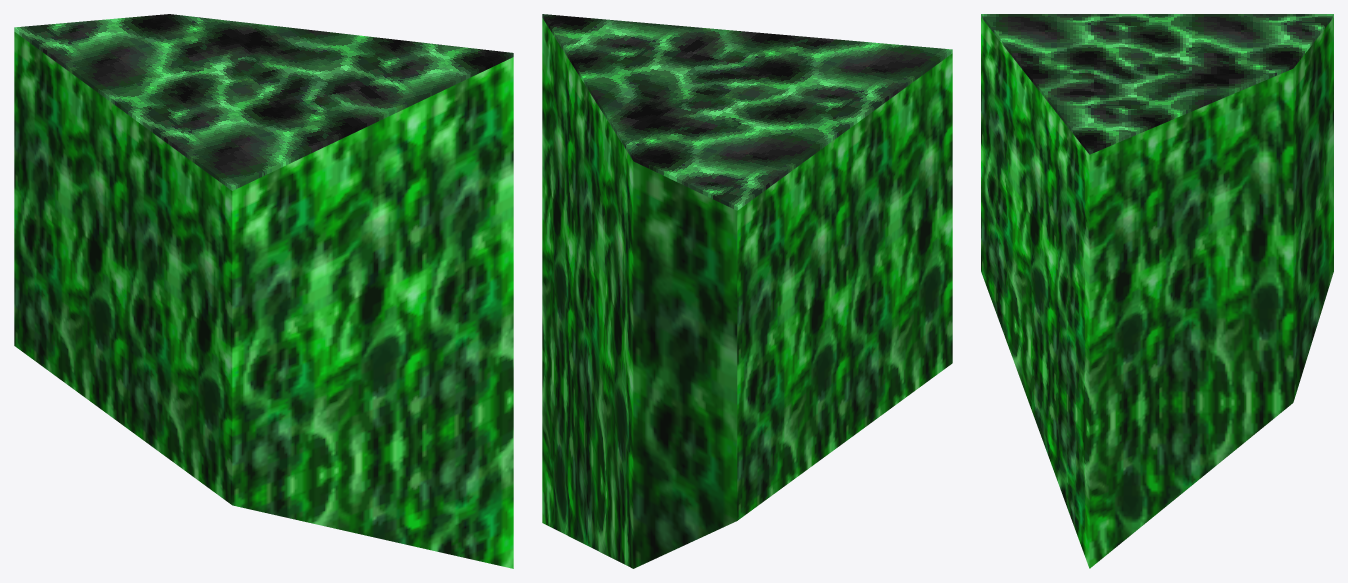
The picture shows the model from 3 angles, left to right: view 1: azimuth 30°, elevation 25°; view 2: azimuth 150°, elevation 25°; view 3: azimuth 270°, elevation 25°; orthographic projection. The views are drawn at different scales.
Visible parts, largest first — view 1: kb3_b; view 2: kb3_b; view 3: kb3_b.
Boxes of the visible parts, box(x1,y1,x2,y2) form: kb3_b: box(14, 14, 513, 568); kb3_b: box(542, 14, 952, 568); kb3_b: box(981, 14, 1333, 568).
Size of the model in its own units: 231 by 326 by 250.
2 materials, 2 textured.
